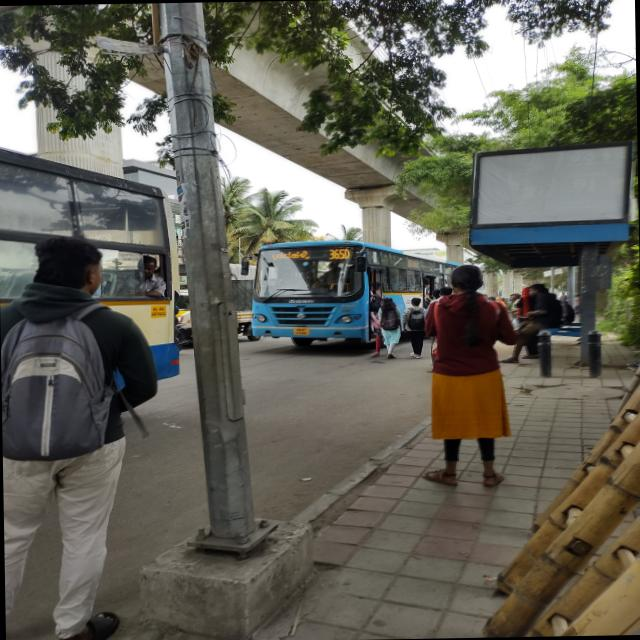bus: (0, 138, 177, 403), (248, 224, 452, 350)
display: (272, 248, 354, 262)
dnumber: (328, 248, 349, 260)
